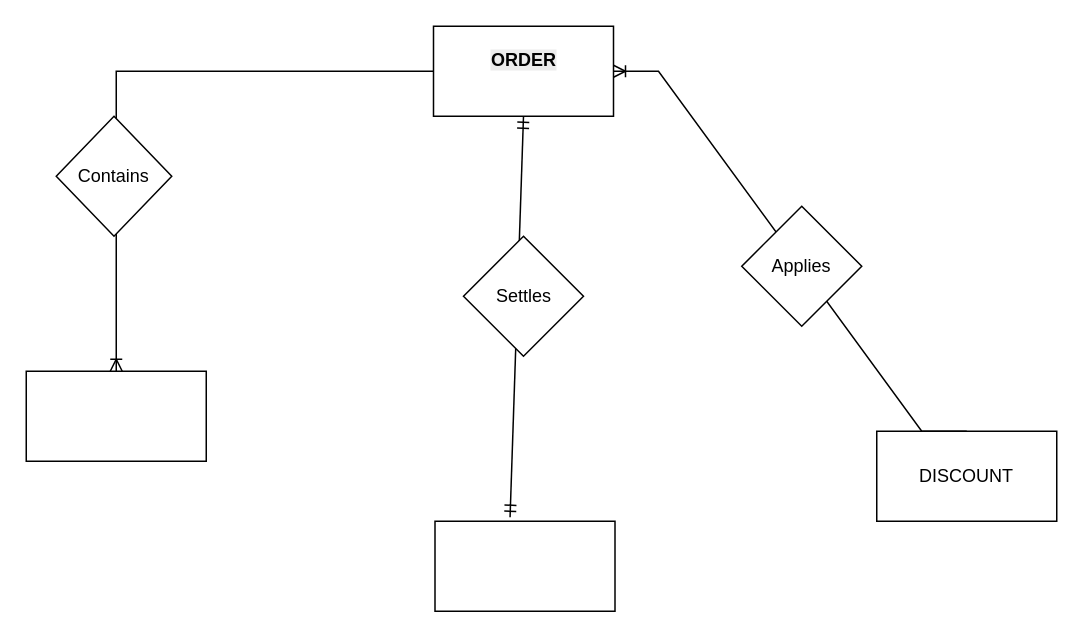
The diagram is 1083 pixels wide and 638 high, and some of its shapes have lost their labels. Each missing label, with the centre of its shape:
MENU: (115,415)
PAYMENT: (524,565)
